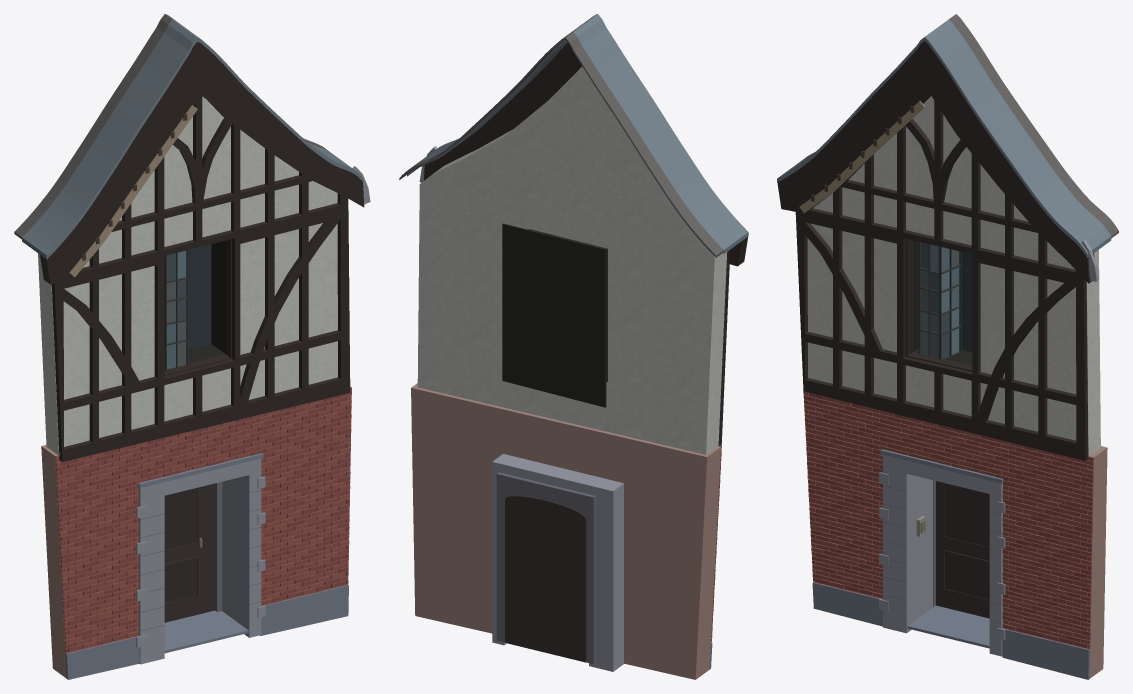
Rendered from changning-yuyuan-lane-865-timber-gable-web.glb.
3 renders of one model, left to right at view 1: azimuth 30°, elevation 25°; view 2: azimuth 150°, elevation 25°; view 3: azimuth 330°, elevation 25°, orthographic. The views are drawn at different scales.
Visible parts, largest first — view 1: 愚园路865弄花园住宅木构图案山墙与内凹门洞; view 2: 愚园路865弄花园住宅木构图案山墙与内凹门洞; view 3: 愚园路865弄花园住宅木构图案山墙与内凹门洞.
Boxes of the visible parts, x1=… form: 愚园路865弄花园住宅木构图案山墙与内凹门洞: x1=14, y1=14, x2=370, y2=679; 愚园路865弄花园住宅木构图案山墙与内凹门洞: x1=399, y1=14, x2=748, y2=679; 愚园路865弄花园住宅木构图案山墙与内凹门洞: x1=777, y1=14, x2=1118, y2=679.
Size of the model in its own units: 4.63 by 8.47 by 0.952.
Materials: 26 (1 with a texture image).
